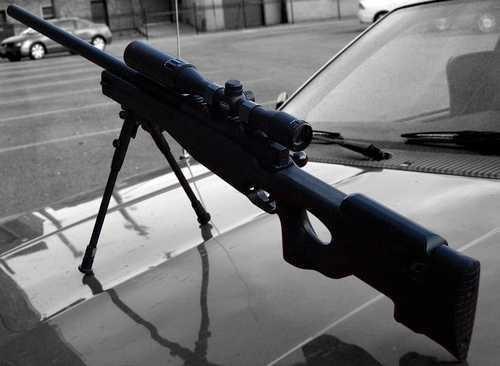heavyweapon: (0, 0, 486, 361)
